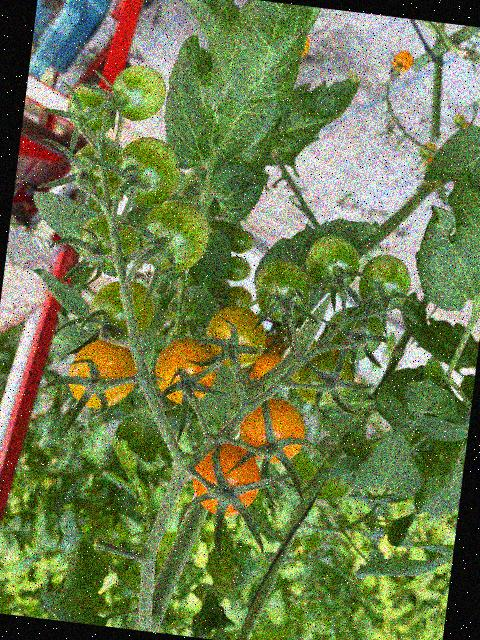l_green: (136, 197, 212, 276), (112, 133, 185, 210), (86, 276, 159, 342), (289, 344, 357, 410), (74, 209, 143, 274), (251, 257, 314, 325), (323, 302, 388, 366), (108, 61, 170, 125), (302, 232, 363, 297), (68, 139, 130, 200), (356, 250, 415, 314), (64, 83, 120, 138)
l_half_ripened: (188, 436, 264, 520), (66, 335, 142, 413), (236, 394, 309, 468), (152, 334, 221, 408), (202, 302, 270, 372)
